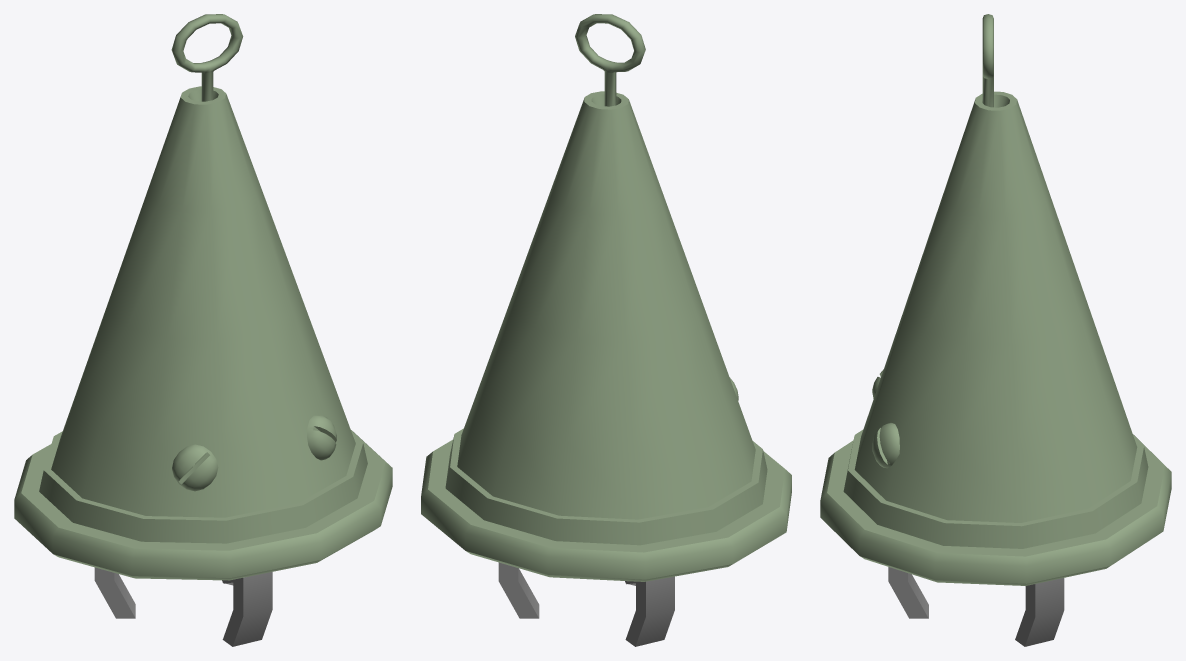
The model's file is ch_con_bug.fbx.
3 views of the same model, side by side, from view 1: azimuth 30°, elevation 25°; view 2: azimuth 150°, elevation 25°; view 3: azimuth 270°, elevation 25° (orthographic).
Visible parts, largest first — view 1: Object001, ch_bulbbug_001_leg_bottom_001, ch_bulbbug_001_leg_bottom_002; view 2: Object001, ch_bulbbug_001_leg_bottom_002, ch_bulbbug_001_leg_bottom_003; view 3: Object001, ch_bulbbug_001_leg_bottom_003, ch_bulbbug_001_leg_bottom_001.
Part boxes in pixels (x1,y1,x2,y2): Object001: (14, 14, 392, 580); ch_bulbbug_001_leg_bottom_001: (222, 572, 272, 646); ch_bulbbug_001_leg_bottom_002: (94, 567, 135, 618); Object001: (421, 14, 791, 581); ch_bulbbug_001_leg_bottom_002: (625, 576, 674, 646); ch_bulbbug_001_leg_bottom_003: (498, 562, 539, 618); Object001: (820, 14, 1171, 585); ch_bulbbug_001_leg_bottom_003: (1015, 578, 1064, 646); ch_bulbbug_001_leg_bottom_001: (888, 567, 928, 618).
Bounding box in the file's own units: 272 × 468 × 251.
